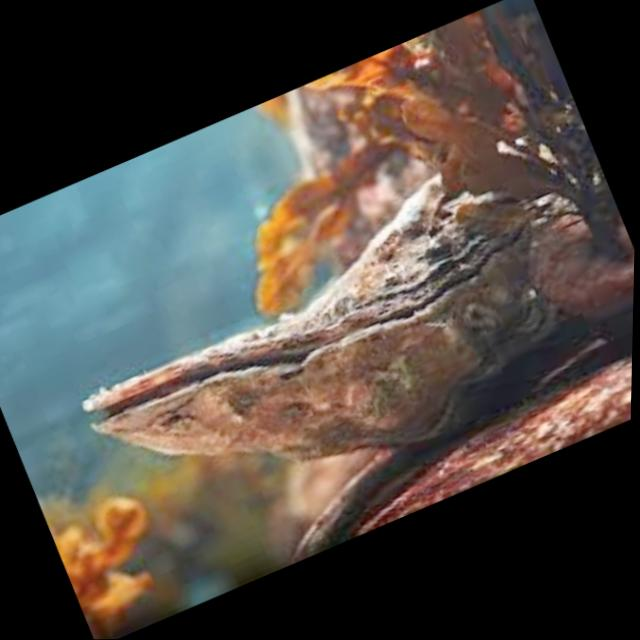Oyster-Closed: (51, 143, 603, 560)
